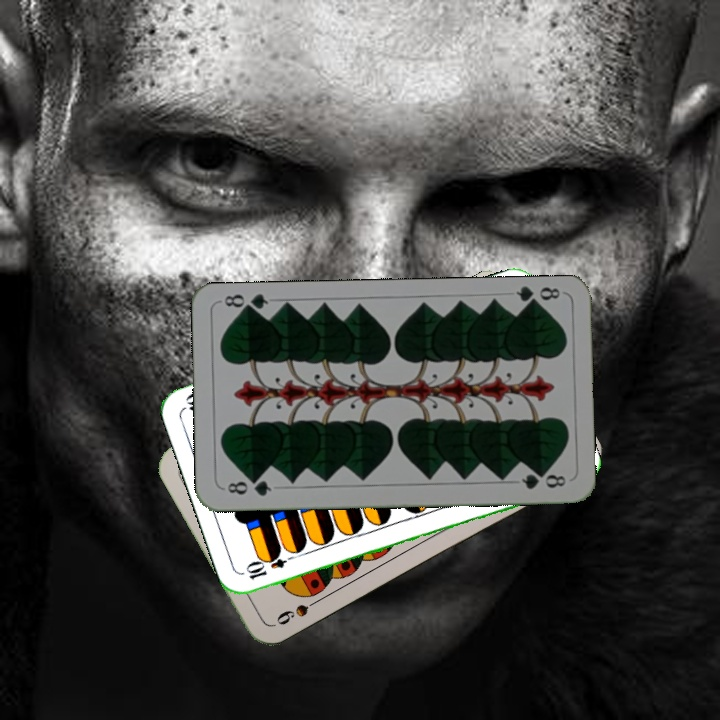E10: (242, 548, 300, 582)
G8: (512, 283, 562, 310), (223, 475, 274, 499)
S9: (272, 593, 325, 628)
